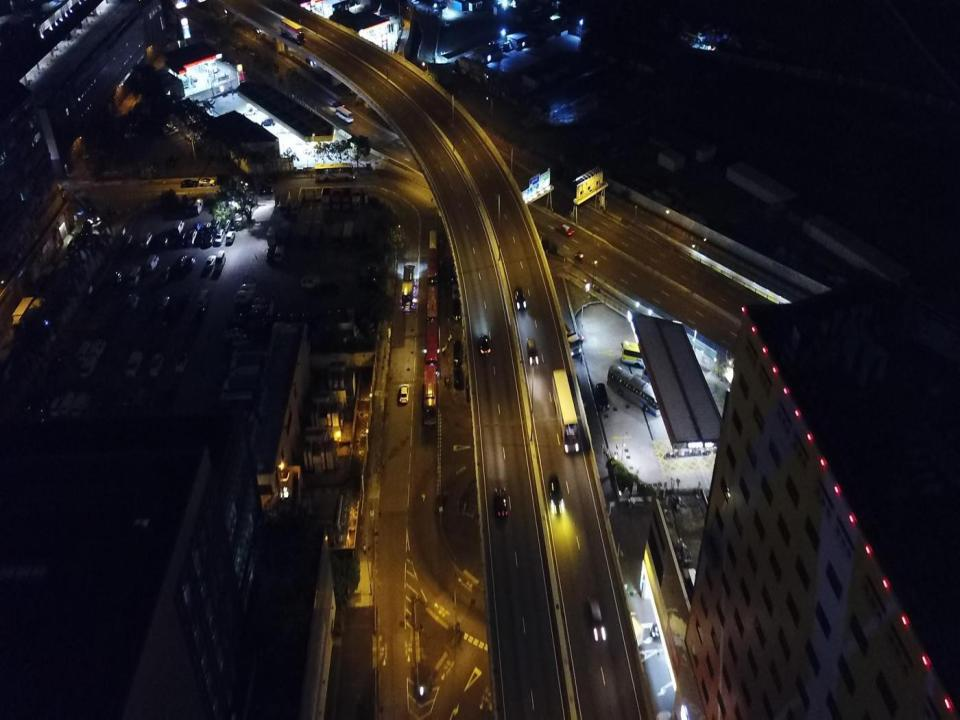bus: (608, 364, 667, 416), (552, 369, 579, 454), (622, 340, 681, 371), (642, 365, 688, 391), (20, 297, 48, 338), (423, 365, 438, 426), (73, 189, 98, 224), (425, 320, 438, 374), (314, 164, 356, 180), (401, 264, 415, 312), (280, 18, 304, 44), (427, 284, 438, 326), (170, 70, 188, 89), (335, 106, 354, 122), (198, 58, 218, 73), (428, 248, 438, 276), (429, 228, 438, 256)
car: (650, 622, 688, 641), (588, 596, 605, 638), (548, 474, 563, 514), (495, 487, 508, 518), (149, 352, 164, 376), (596, 383, 609, 409), (526, 338, 538, 365), (555, 221, 574, 236), (514, 287, 526, 310), (175, 352, 188, 373), (316, 283, 340, 294), (453, 365, 464, 389), (360, 266, 379, 279), (157, 295, 170, 311), (224, 328, 244, 338), (205, 228, 216, 246), (480, 336, 491, 354), (193, 307, 205, 323), (186, 228, 197, 245), (233, 336, 255, 344), (400, 383, 408, 404), (260, 117, 276, 127), (113, 270, 125, 283), (185, 256, 196, 270), (205, 255, 216, 269), (160, 266, 170, 281), (177, 231, 186, 247), (181, 179, 198, 187), (198, 229, 206, 246), (176, 255, 186, 268), (199, 178, 215, 186), (258, 186, 274, 194), (452, 284, 460, 300), (266, 246, 275, 260), (162, 121, 175, 130), (226, 230, 235, 243), (221, 218, 230, 231), (332, 101, 346, 109), (243, 108, 256, 116), (265, 174, 278, 182), (167, 156, 177, 166), (203, 222, 211, 234), (166, 128, 178, 135), (306, 58, 315, 66), (192, 221, 201, 229), (441, 20, 450, 28), (206, 99, 216, 106), (253, 26, 260, 33), (190, 76, 197, 82), (412, 0, 419, 5)
truck: (538, 304, 580, 357), (12, 297, 34, 333), (218, 392, 253, 414), (223, 376, 257, 395), (229, 353, 263, 372), (233, 344, 266, 363), (228, 364, 260, 382), (36, 182, 66, 197), (290, 187, 304, 216), (342, 220, 354, 250), (278, 190, 291, 216), (684, 27, 705, 42), (311, 221, 323, 247), (331, 221, 342, 249), (267, 221, 278, 247), (278, 221, 291, 242), (300, 220, 310, 247), (321, 187, 331, 211), (331, 187, 341, 210), (341, 187, 351, 210), (353, 187, 362, 210)
van: (80, 354, 98, 378), (126, 352, 142, 377), (74, 392, 88, 418), (61, 391, 74, 418), (49, 395, 64, 416), (128, 264, 142, 286), (77, 341, 90, 363), (248, 310, 271, 322), (250, 304, 273, 316), (233, 291, 254, 304), (144, 254, 159, 272), (197, 290, 210, 310), (301, 276, 321, 289), (91, 339, 104, 358), (254, 297, 276, 308), (214, 250, 226, 270), (236, 284, 256, 296), (126, 292, 139, 310), (454, 340, 463, 365), (158, 232, 170, 248), (141, 231, 152, 248), (173, 219, 184, 235), (453, 298, 461, 320), (215, 228, 225, 245), (193, 198, 203, 214), (274, 245, 284, 261), (185, 199, 194, 216)
